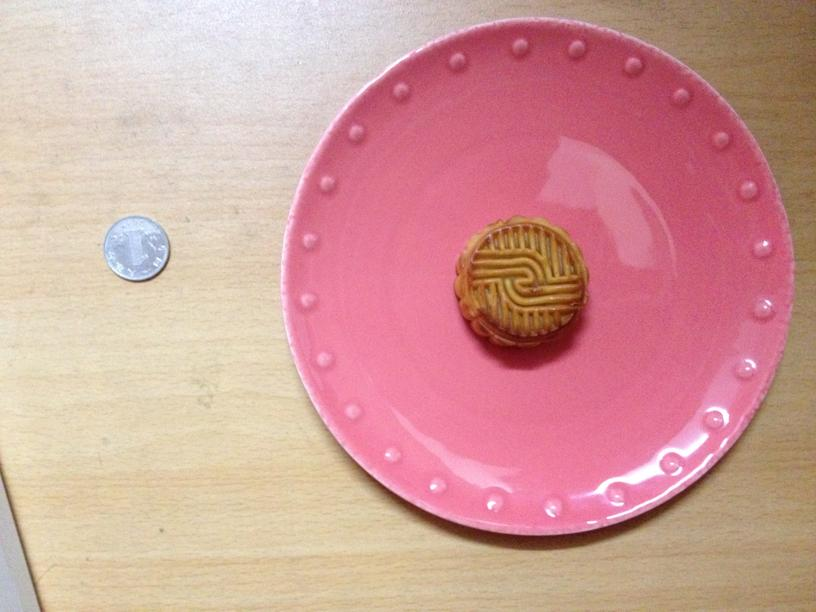coin: (104, 217, 169, 282)
mooncake: (452, 218, 591, 348)
